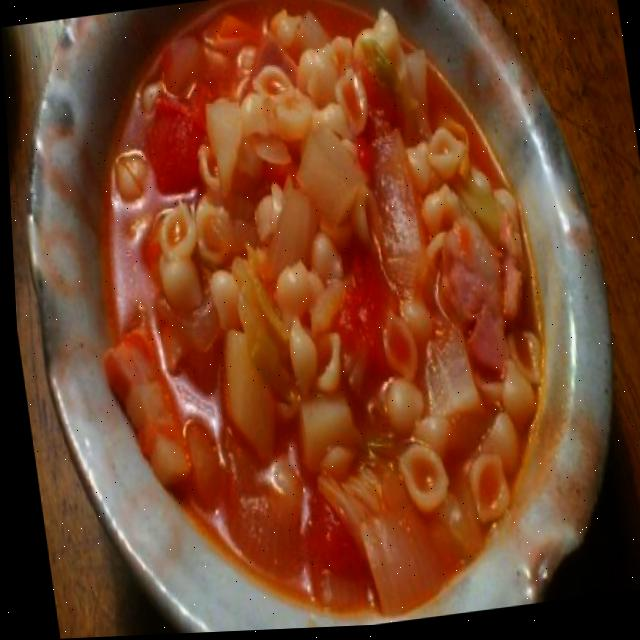蔬菜料理: (44, 10, 604, 594)
